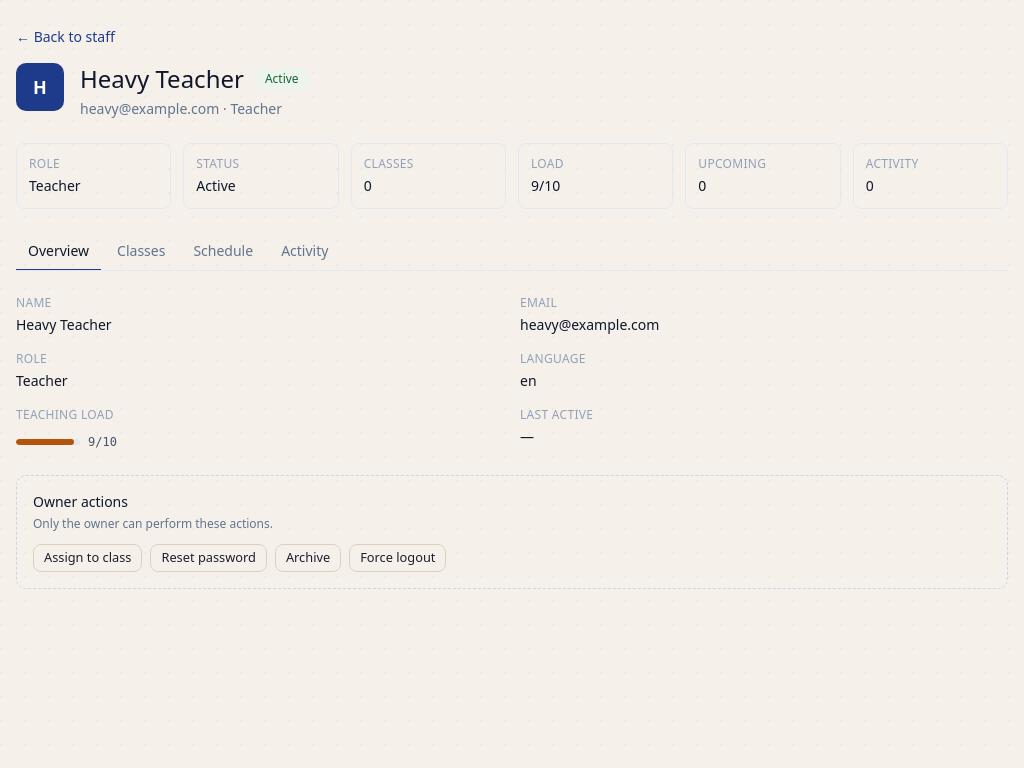
Test: StaffDetailPage — AC9 tab bodies › P1 Classes tab lists assignedClasses; empty fixture shows a per-tab empty state
expect the heading "Heavy Teacher" is shown: met, box [80,63,244,95]
Click the tab "Classes": {"x": 141, "y": 252} [105,233,177,271]
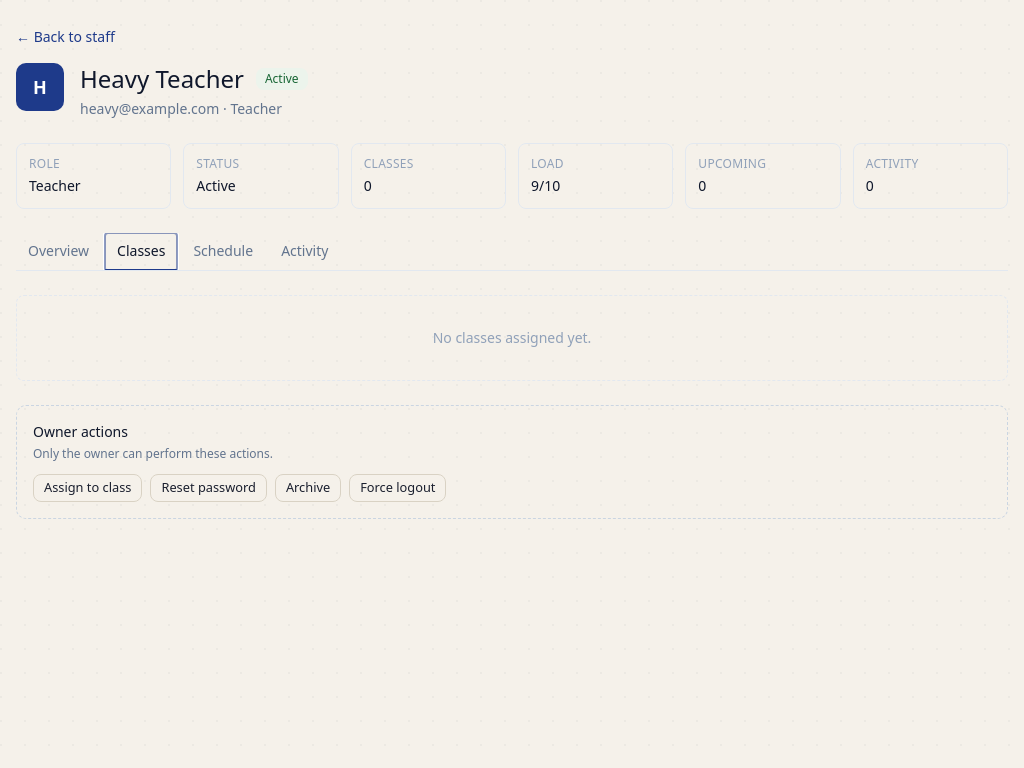
expect the text "No classes assigned yet." is shown: met, box [16,295,1008,381]
